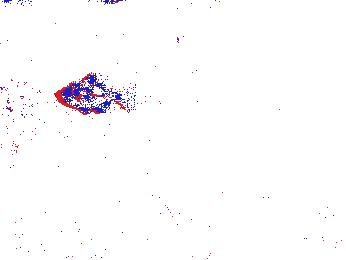X-ray fish: (54, 78, 127, 111)
